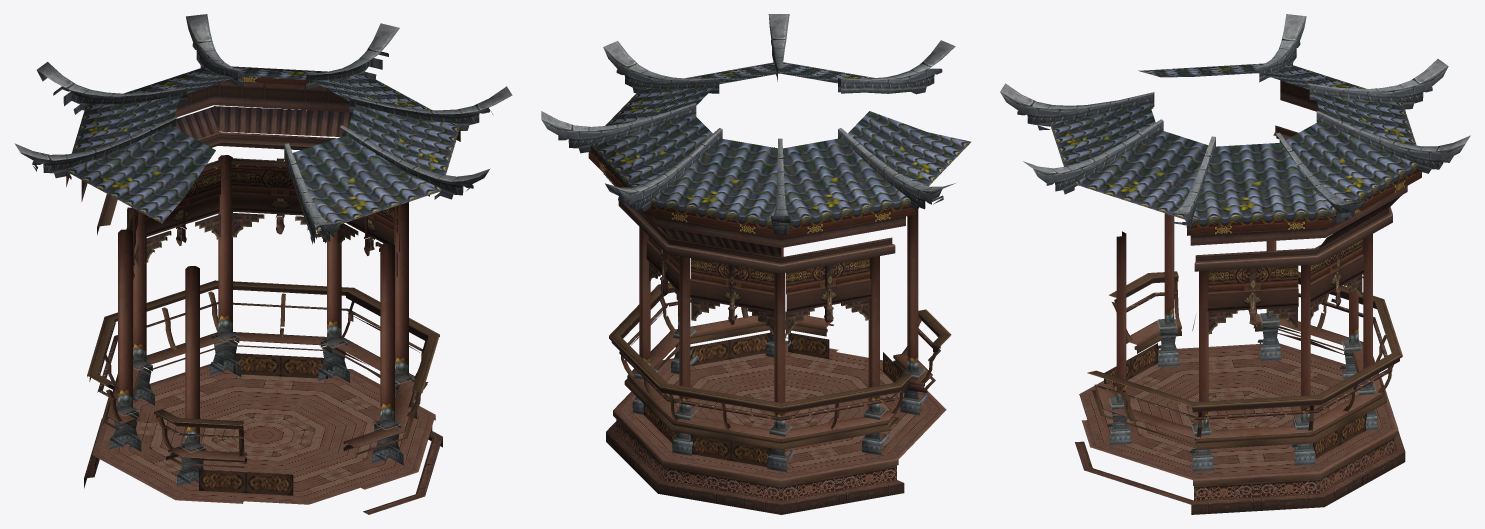
The model's file is S2_Build_XSC021b_H4.FBX.
The picture shows the model from 3 angles, left to right: view 1: azimuth 30°, elevation 25°; view 2: azimuth 150°, elevation 25°; view 3: azimuth 270°, elevation 25°; orthographic projection. The views are drawn at different scales.
Visible parts, largest first — view 1: S2_Build_XSC021b_H4; view 2: S2_Build_XSC021b_H4; view 3: S2_Build_XSC021b_H4.
Boxes of the visible parts, x1=… form: S2_Build_XSC021b_H4: x1=14, y1=14, x2=512, y2=514; S2_Build_XSC021b_H4: x1=541, y1=14, x2=971, y2=514; S2_Build_XSC021b_H4: x1=1000, y1=14, x2=1470, y2=514.
Size of the model in its own units: 5815 by 4641 by 5809.
